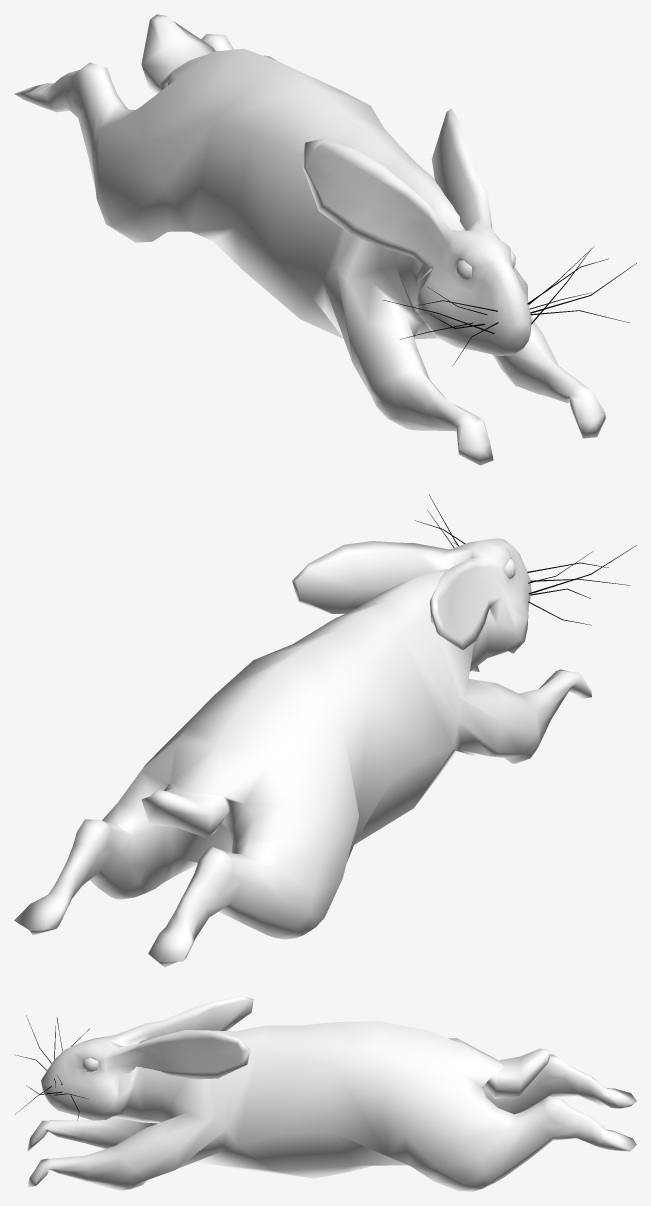
The model's file is rabbit_5.obj.
The picture shows the model from 3 angles, top to bottom: view 1: azimuth 30°, elevation 25°; view 2: azimuth 150°, elevation 25°; view 3: azimuth 270°, elevation 25°; orthographic projection. The views are drawn at different scales.
Visible parts, largest first — view 1: Rabbit_Cylinder; view 2: Rabbit_Cylinder; view 3: Rabbit_Cylinder.
Part boxes in pixels (left/top/right/bottom): Rabbit_Cylinder: left=14, top=14, right=636, bottom=465; Rabbit_Cylinder: left=14, top=494, right=636, bottom=967; Rabbit_Cylinder: left=14, top=996, right=636, bottom=1191.
Size of the model in its own units: 7.03 by 7.58 by 25.46.
Materials: 1 (1 with a texture image).
